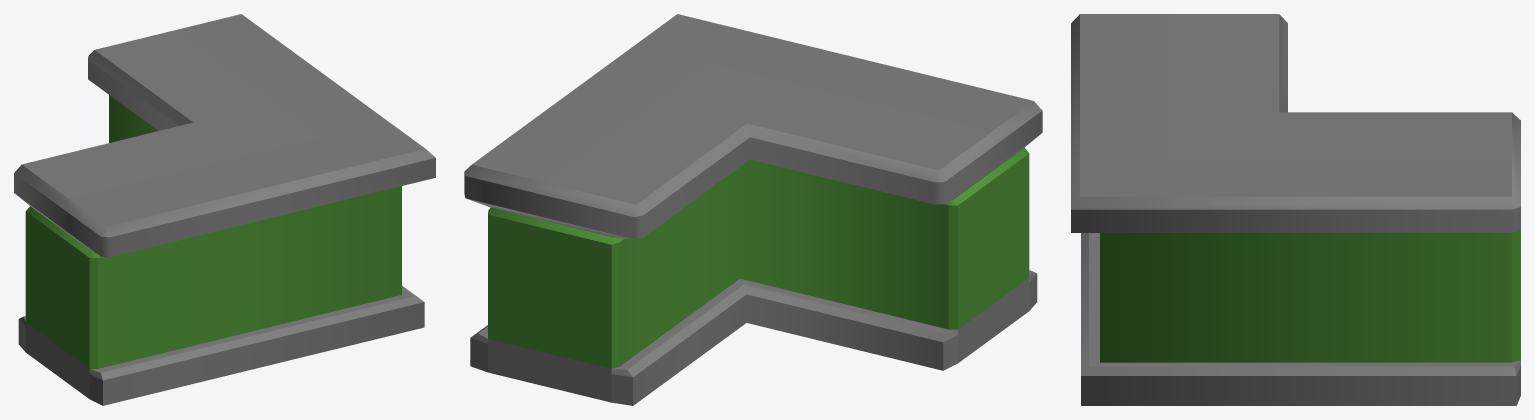
File: BrickWall_3_1.fbx
The picture shows the model from 3 angles, left to right: view 1: azimuth 30°, elevation 25°; view 2: azimuth 150°, elevation 25°; view 3: azimuth 270°, elevation 25°; orthographic projection. The views are drawn at different scales.
Parts seen in each view (by area): view 1: BrickWall_3_1; view 2: BrickWall_3_1; view 3: BrickWall_3_1.
Boxes of the visible parts, bbox=[...] form: BrickWall_3_1: bbox=[14, 14, 435, 405]; BrickWall_3_1: bbox=[464, 14, 1042, 405]; BrickWall_3_1: bbox=[1071, 14, 1520, 405].
Bounding box in the file's own units: 132 × 67.83 × 132.
